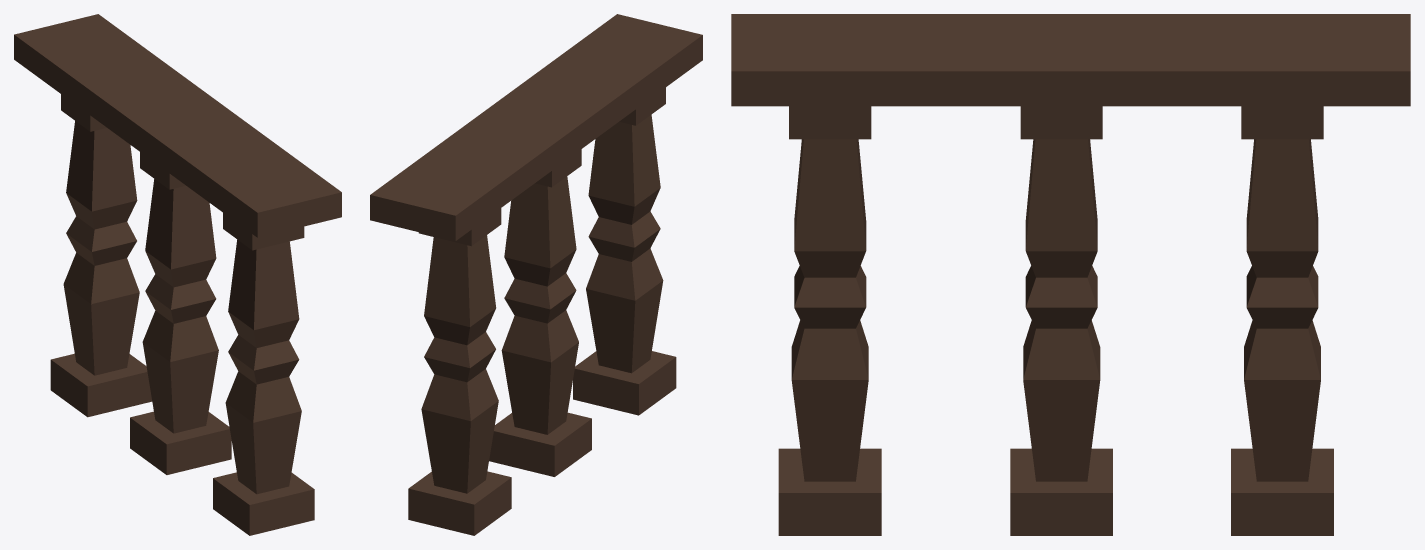
File: S_Railing.fbx
3 views of the same model, side by side, from view 1: azimuth 30°, elevation 25°; view 2: azimuth 150°, elevation 25°; view 3: azimuth 270°, elevation 25° (orthographic). The views are drawn at different scales.
Visible parts, largest first — view 1: S_Railing; view 2: S_Railing; view 3: S_Railing.
Boxes of the visible parts, x1,y1,x2,y2 form: S_Railing: (14, 14, 341, 535); S_Railing: (370, 14, 702, 535); S_Railing: (731, 14, 1410, 535).
Size of the model in its own units: 20 by 76.55 by 100.
